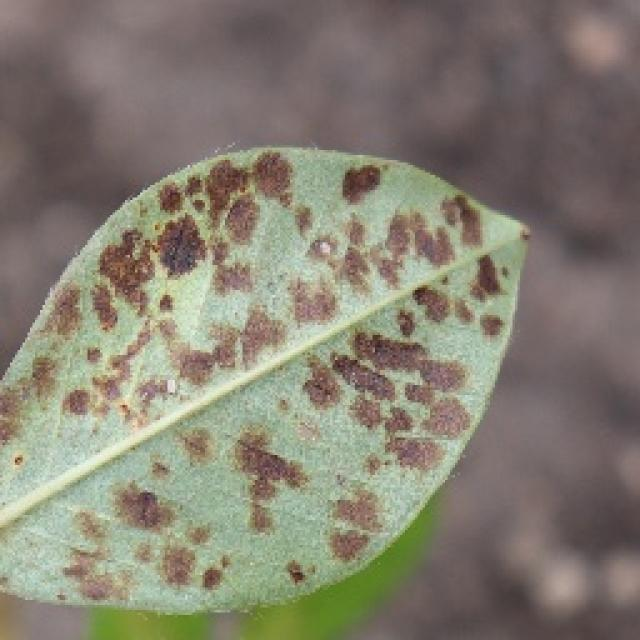Whitefly: (2, 133, 538, 638)
